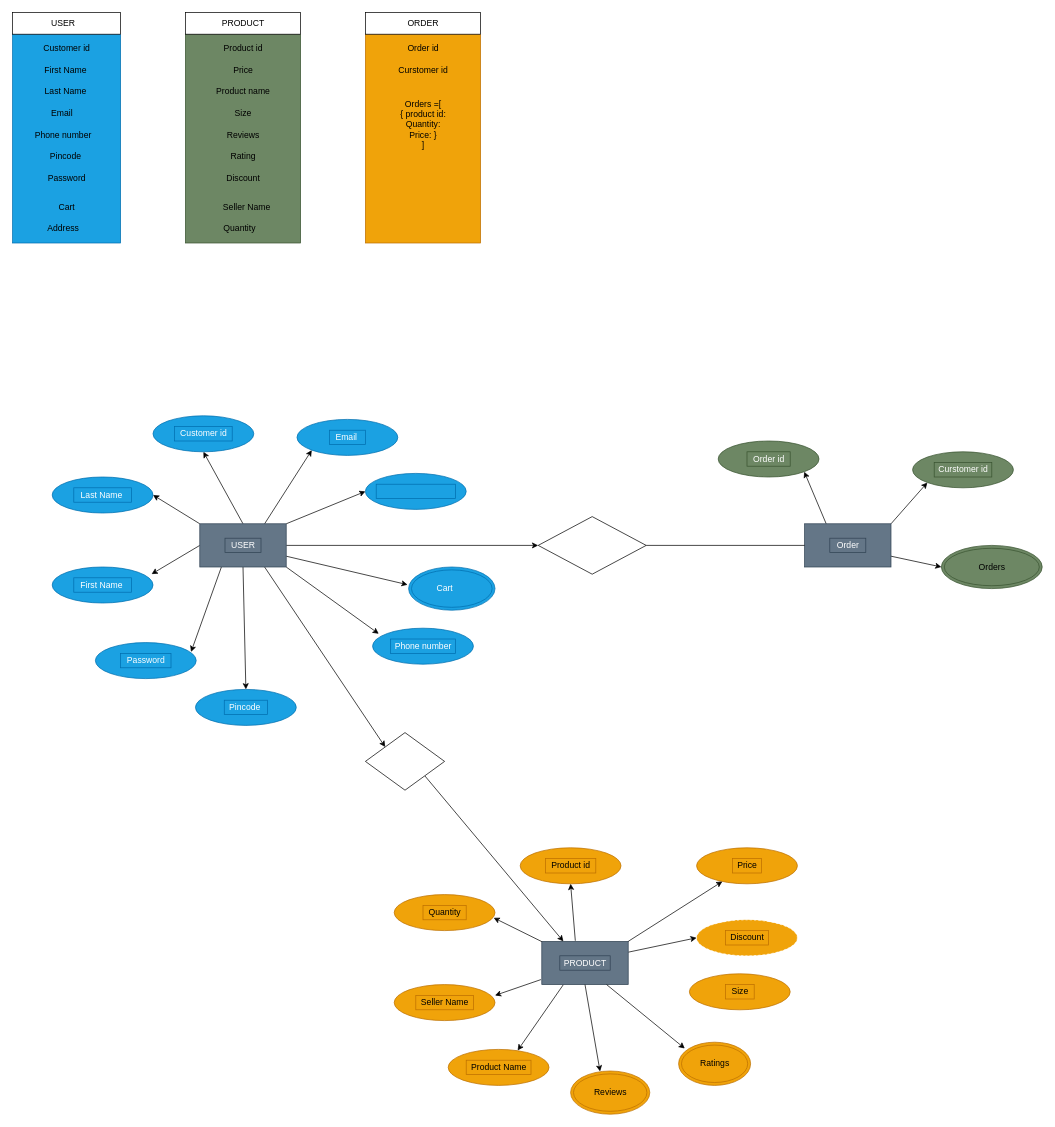
Some shapes in this 1055 by 1127 pixel diagram are drawn without their labels. Here are the shapes that lost their labels. From the top down, the centre of each, then its label:
At point (415, 491): "Shipping address".
At point (591, 545): "Places".
At point (405, 761): "Sees".
